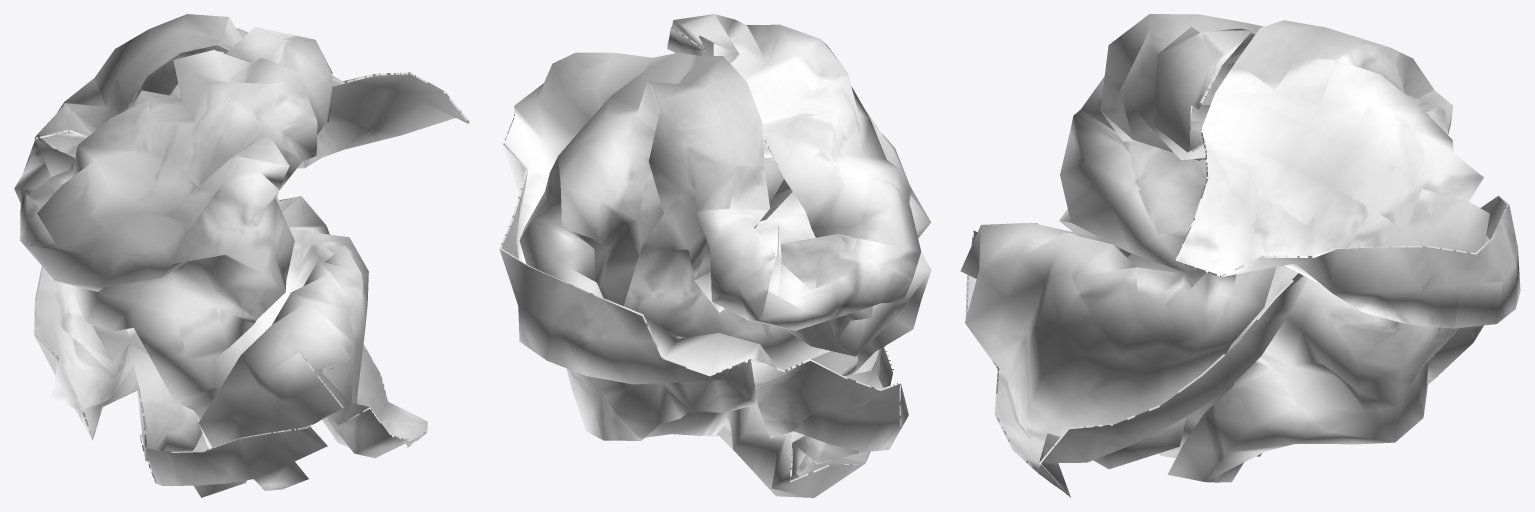
Rendered from Crumpled_paper.FBX.
3 views of the same model, side by side, from view 1: azimuth 30°, elevation 25°; view 2: azimuth 150°, elevation 25°; view 3: azimuth 270°, elevation 25° (orthographic). The views are drawn at different scales.
Visible parts, largest first — view 1: Crumpled_paper; view 2: Crumpled_paper; view 3: Crumpled_paper.
Part boxes in pixels (x1=…): Crumpled_paper: x1=14, y1=14, x2=470, y2=497; Crumpled_paper: x1=499, y1=14, x2=931, y2=497; Crumpled_paper: x1=960, y1=14, x2=1520, y2=497.
Bounding box in the file's own units: 4.44 × 4.54 × 4.71.
Materials: 1 (1 with a texture image).
